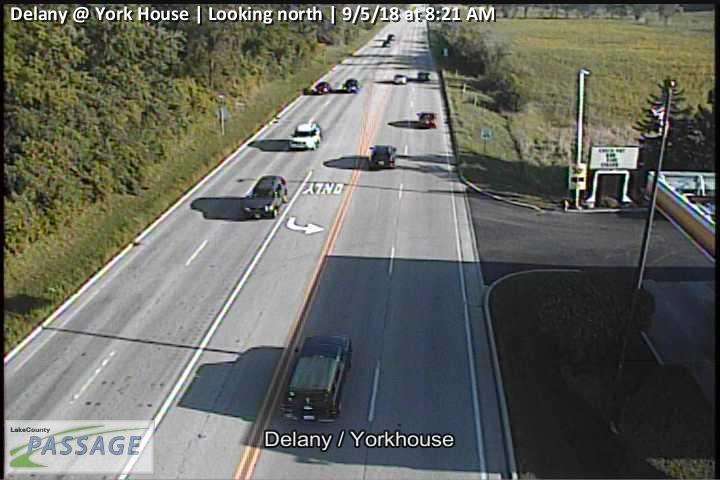SUV: (283, 336, 350, 422), (244, 176, 287, 218), (288, 121, 322, 150), (370, 145, 396, 168), (417, 111, 436, 127)
Sedan: (344, 78, 359, 92), (313, 82, 330, 94), (417, 73, 431, 81), (394, 74, 406, 83)
